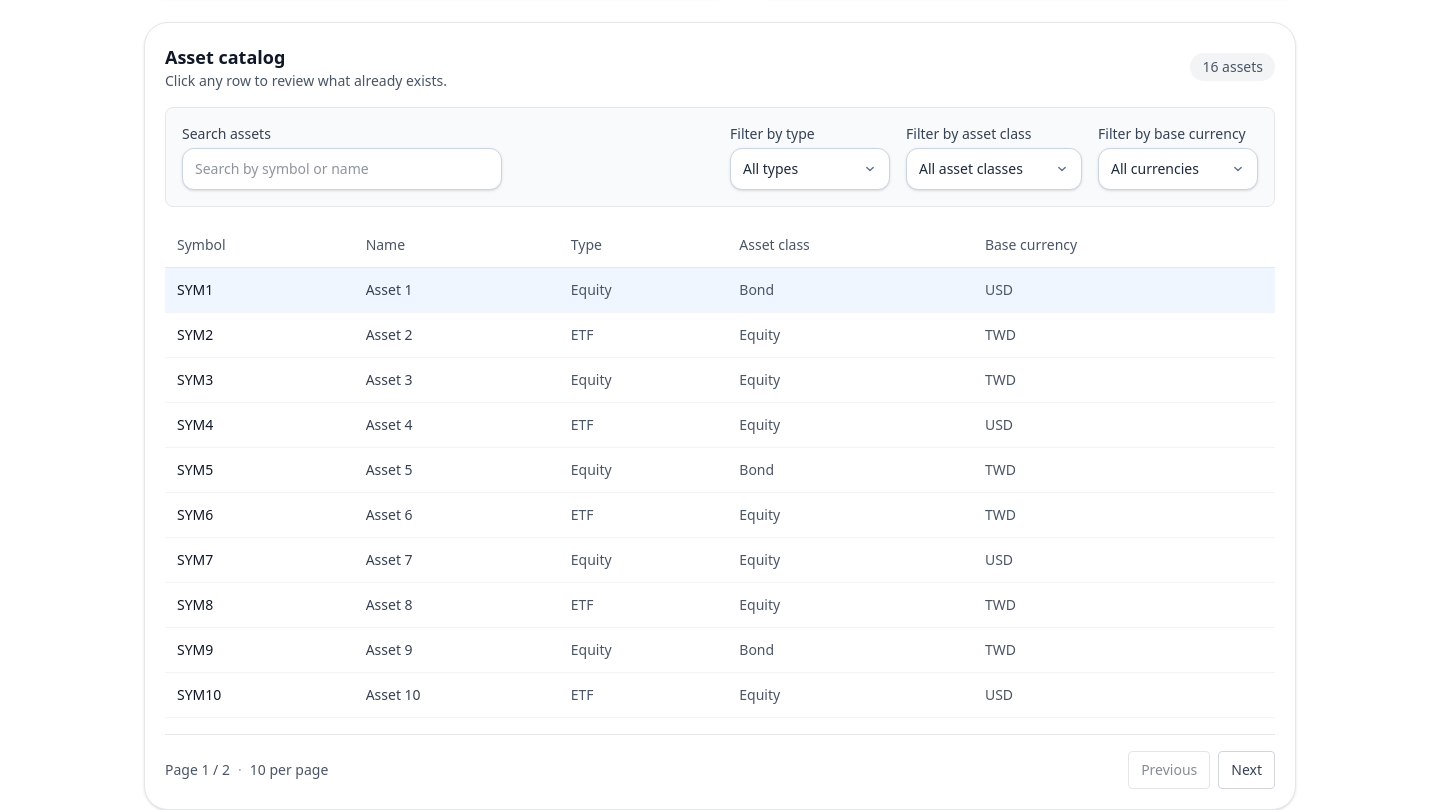
Test case: Assets page edit mode › resets to the first page with a single request when filters change from a later page
(page scrolled)
Expected: the text "Page 1 / 2" is shown, [165,760,230,780]
Click the button "Next".
click(1247, 770)  # box [1218,751,1275,789]
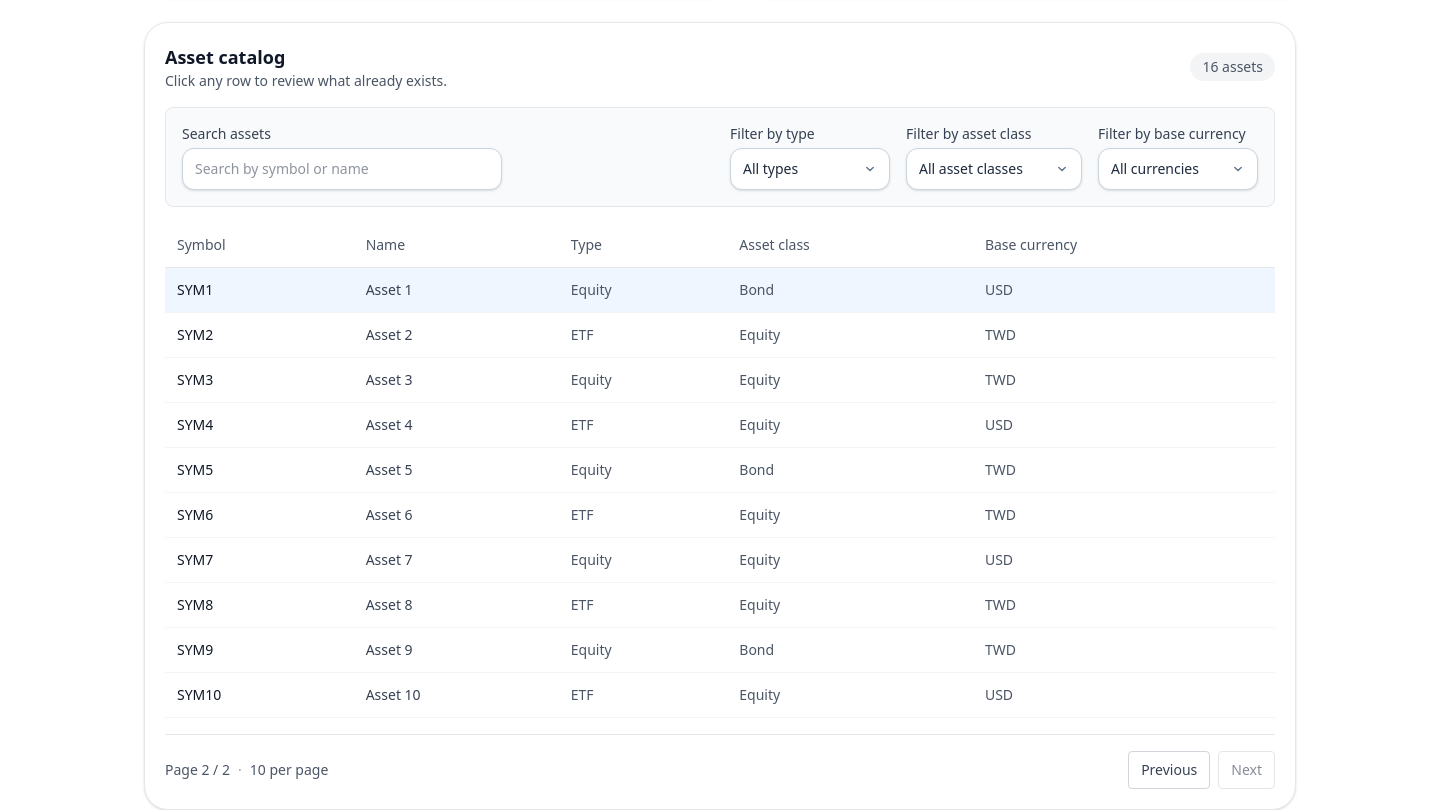
Result: the text "Page 2 / 2" is shown at [165,760,230,780]
Select "Equity" in the dropdown labelled "Filter by type" at (810, 169), box [730,148,890,190]
(page scrolled)
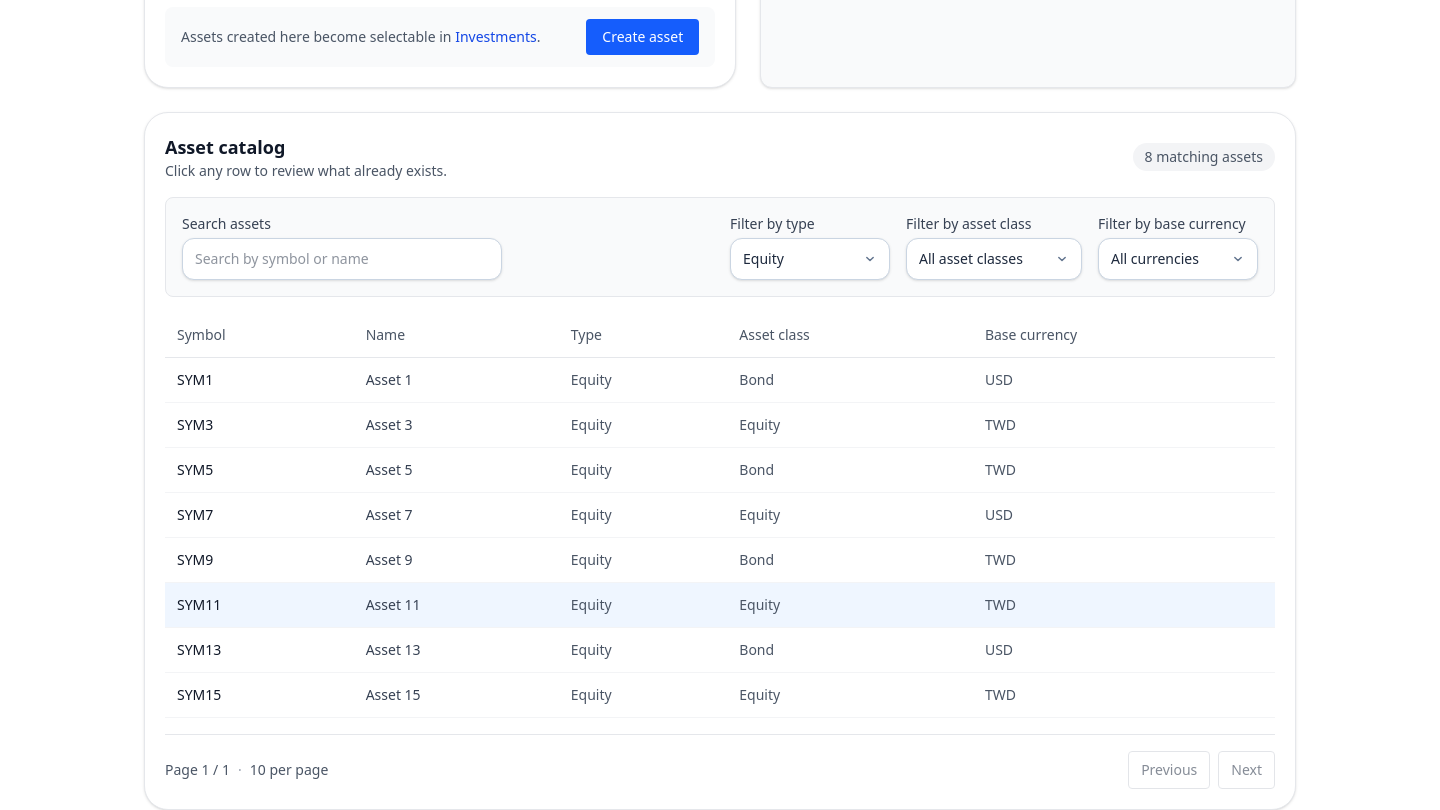
Result: the text "Page 1 / 1" is shown at [165,760,230,780]
